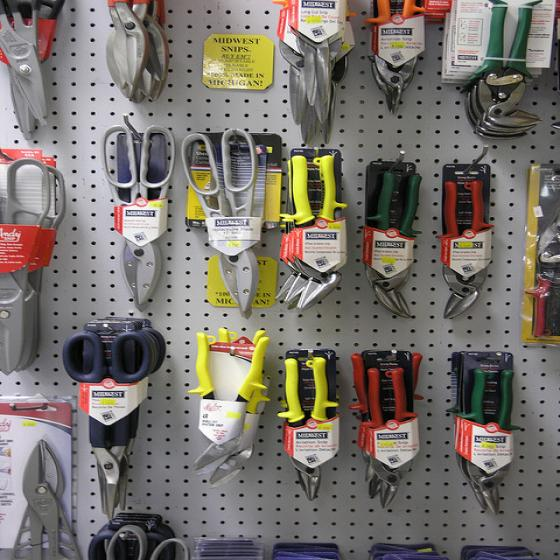scissors: (272, 160, 498, 498), (60, 331, 153, 519), (177, 128, 266, 318), (97, 121, 174, 311), (2, 157, 52, 375), (0, 0, 49, 127), (294, 30, 342, 122), (360, 367, 419, 441), (109, 0, 150, 86), (368, 441, 414, 509), (107, 527, 190, 560)
